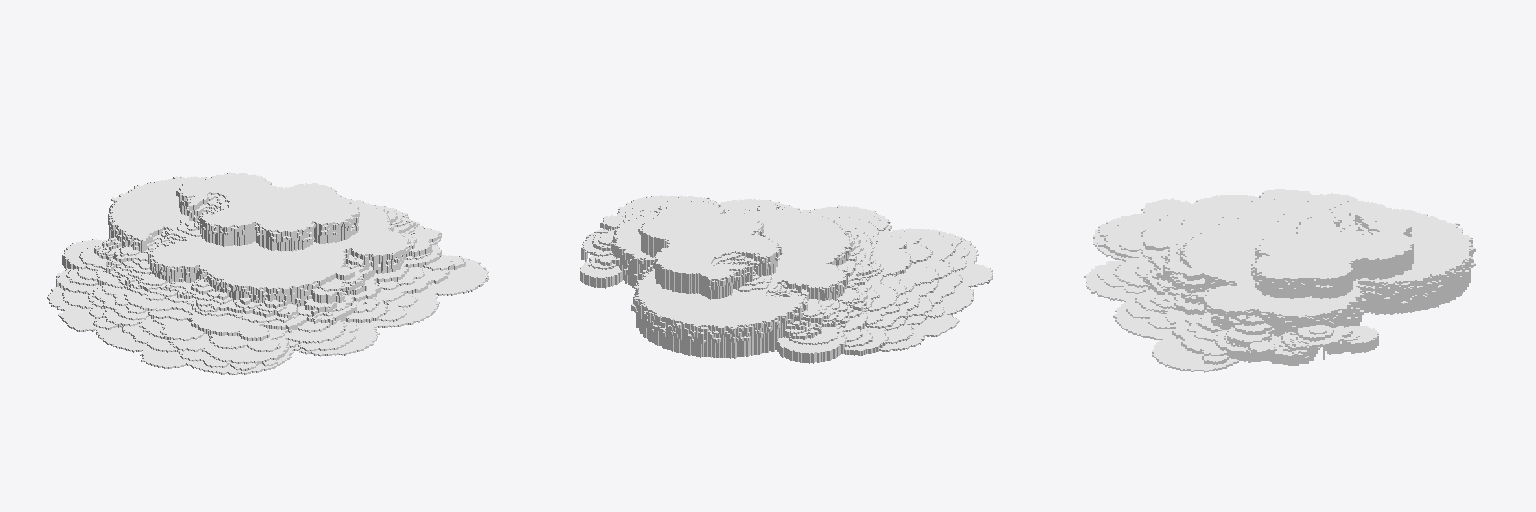
Rendered from IslaCalavera2-1.obj.
3 views of the same model, side by side, from view 1: azimuth 30°, elevation 25°; view 2: azimuth 150°, elevation 25°; view 3: azimuth 270°, elevation 25° (orthographic).
Parts seen in each view (by area): view 1: object 1; view 2: object 1; view 3: object 1.
Part boxes in pixels (left/top/right/bottom): object 1: left=47, top=172, right=488, bottom=374; object 1: left=580, top=195, right=992, bottom=363; object 1: left=1084, top=189, right=1475, bottom=372.
Bounding box in the file's own units: 23.4 × 3.1 × 21.3.